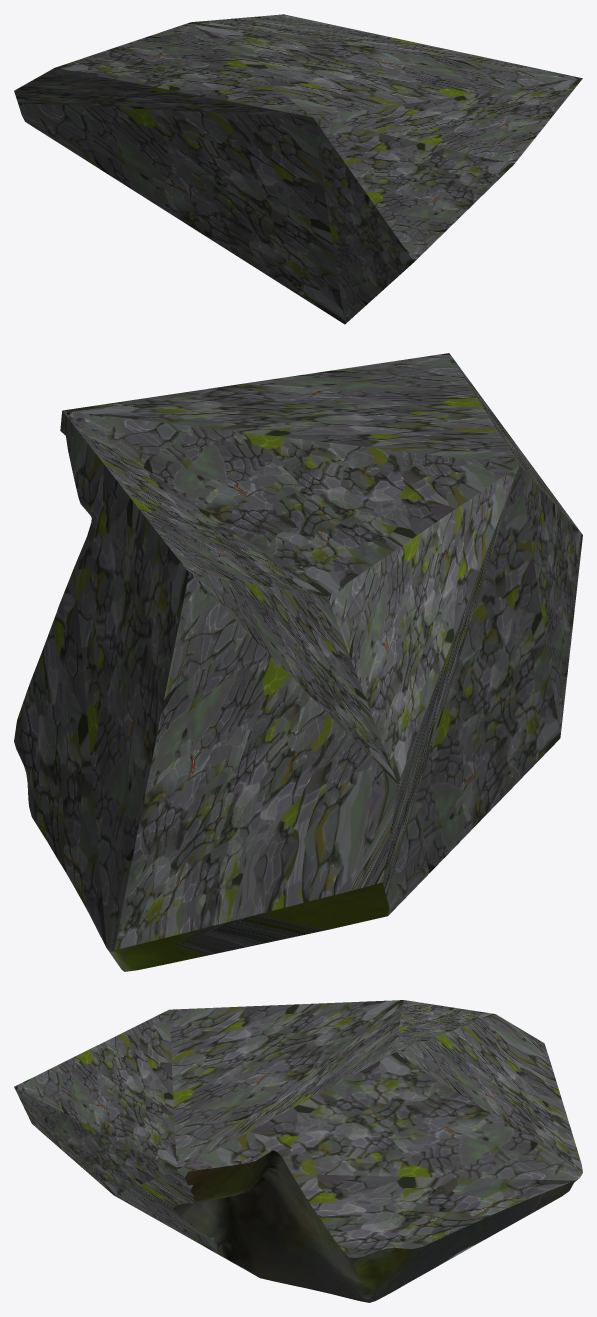
Rendered from Frag_23.gltf.
3 views of the same model, one above another, from view 1: azimuth 30°, elevation 25°; view 2: azimuth 150°, elevation 25°; view 3: azimuth 270°, elevation 25° (orthographic). The views are drawn at different scales.
Visible parts, largest first — view 1: Frag_23; view 2: Frag_23; view 3: Frag_23.
Boxes of the visible parts, x1=… form: Frag_23: x1=14, y1=14, x2=582, y2=324; Frag_23: x1=14, y1=353, x2=582, y2=971; Frag_23: x1=14, y1=1000, x2=582, y2=1302.
Bounding box in the file's own units: 0.305 × 0.1791 × 0.4009.
Materials: 1 (1 with a texture image).
